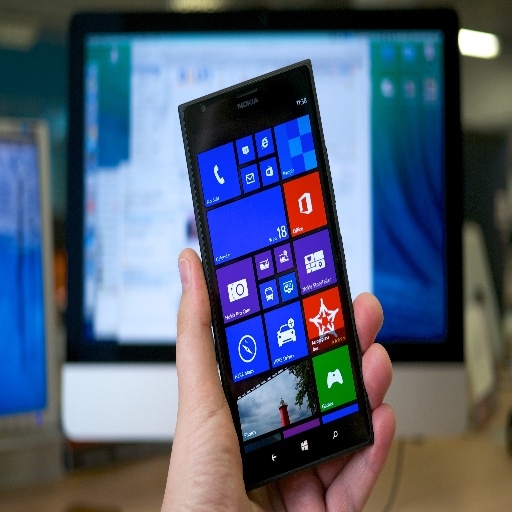hand: (139, 247, 391, 498)
